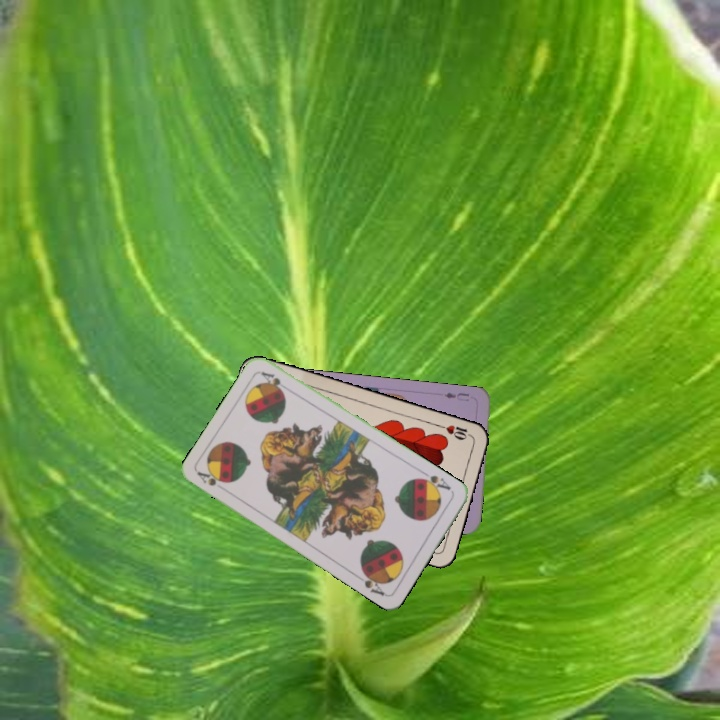EU: (440, 388, 472, 404)
H10: (435, 421, 475, 443)
SA: (415, 467, 454, 495), (194, 467, 229, 489)
